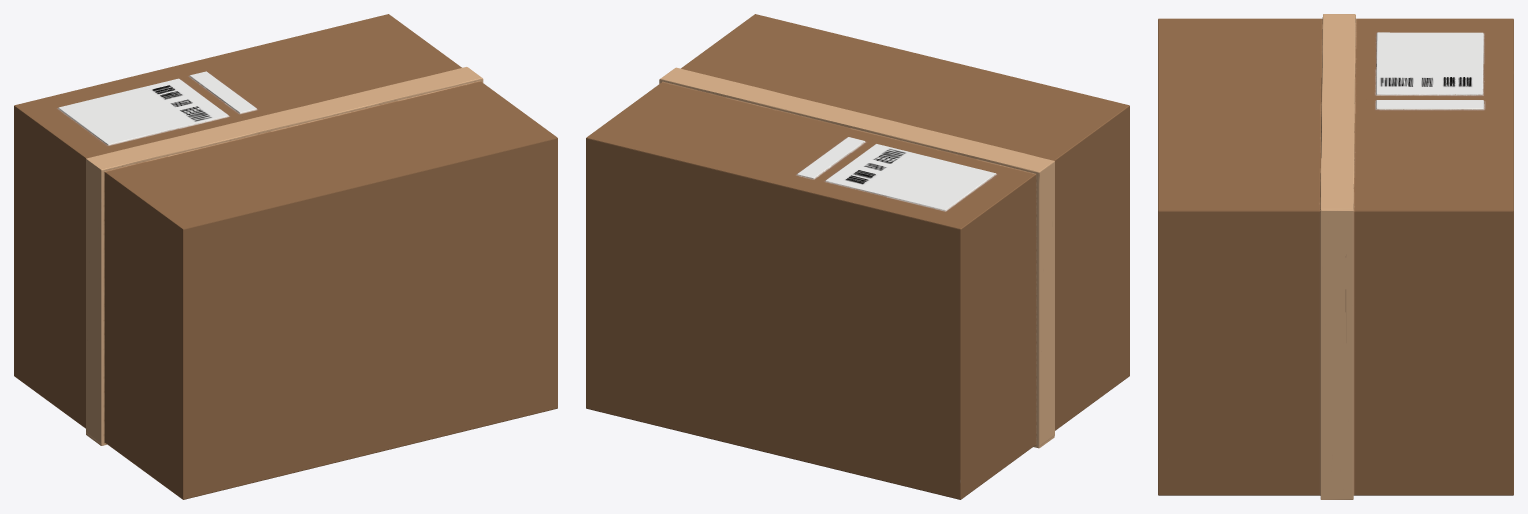
File: paket_1.glb
3 renders of one model, left to right at view 1: azimuth 30°, elevation 25°; view 2: azimuth 150°, elevation 25°; view 3: azimuth 270°, elevation 25°, orthographic. The views are drawn at different scales.
Parts seen in each view (by area): view 1: 272881_23_05_11_14_56_54_0; view 2: 272881_23_05_11_14_56_54_0; view 3: 272881_23_05_11_14_56_54_0.
Boxes of the visible parts, x1,y1,x2,y2 form: 272881_23_05_11_14_56_54_0: (14,14,557,499); 272881_23_05_11_14_56_54_0: (586,14,1129,499); 272881_23_05_11_14_56_54_0: (1158,14,1513,499).
Size of the model in its own units: 5.3 by 3.67 by 4.07.
1 material, 1 textured.
